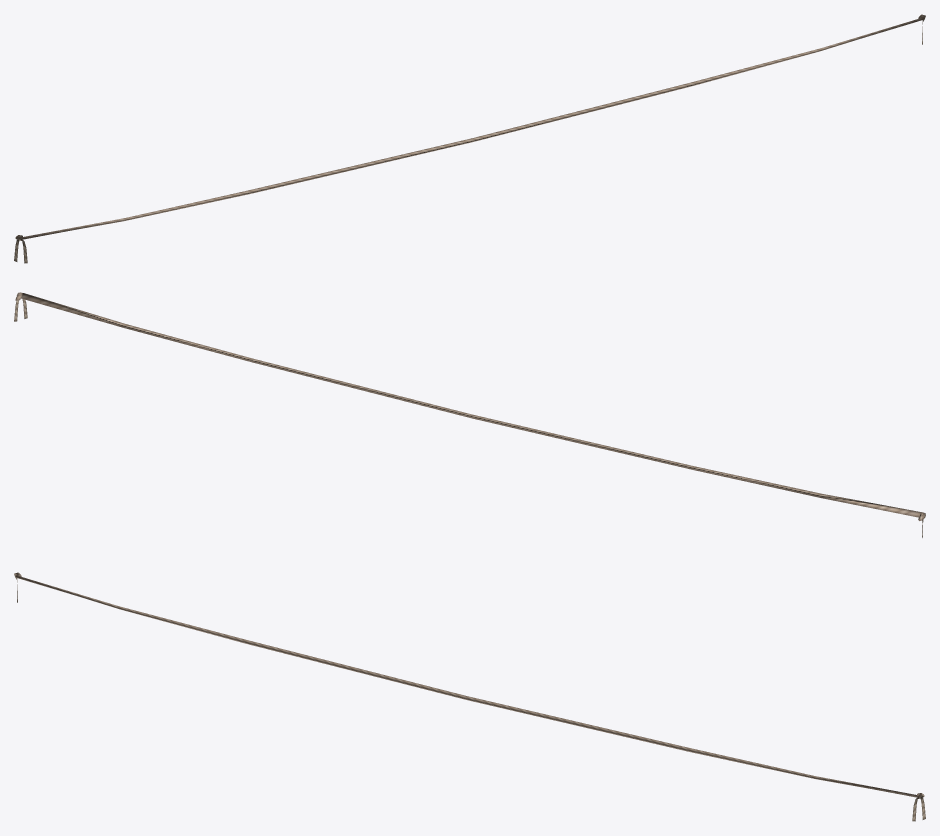
Rendered from jsf_2P_String_s04_04.fbx.
3 views of the same model, one above another, from view 1: azimuth 30°, elevation 25°; view 2: azimuth 150°, elevation 25°; view 3: azimuth 330°, elevation 25° (orthographic).
Parts seen in each view (by area): view 1: jsf_2P_String_s04_04; view 2: jsf_2P_String_s04_04; view 3: jsf_2P_String_s04_04.
Part boxes in pixels (x1=…): jsf_2P_String_s04_04: x1=14, y1=14, x2=925, y2=263; jsf_2P_String_s04_04: x1=14, y1=292, x2=925, y2=537; jsf_2P_String_s04_04: x1=14, y1=572, x2=925, y2=821.
Size of the model in its own units: 344 by 9.72 by 4.94.
